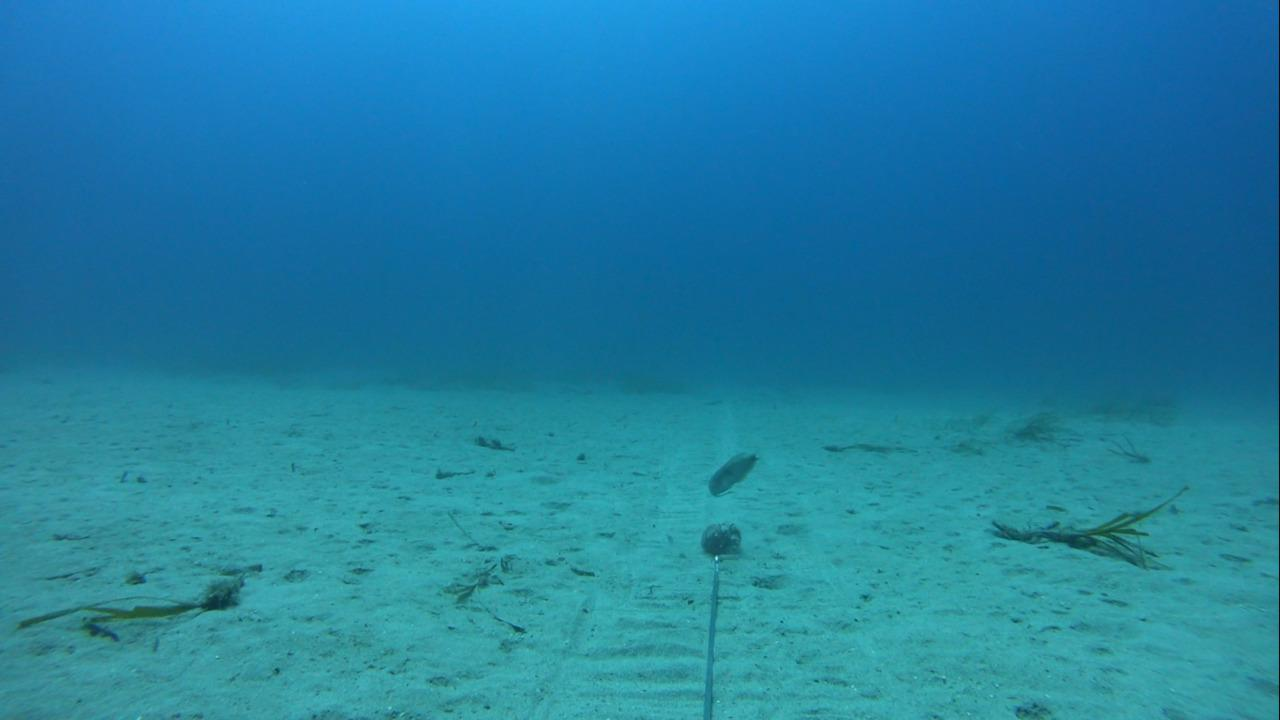raor: (703, 443, 763, 498)
